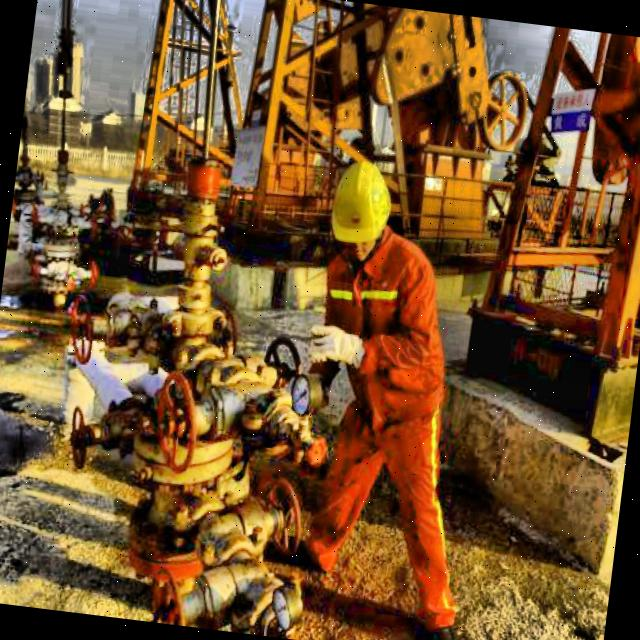helmet: (315, 157, 398, 264)
